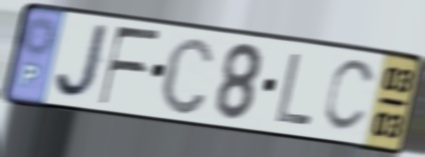8: (211, 41, 264, 123)
C: (158, 33, 217, 117), (321, 57, 379, 136)
F: (96, 24, 165, 108)
J: (53, 22, 113, 102)
L: (273, 50, 315, 129)
